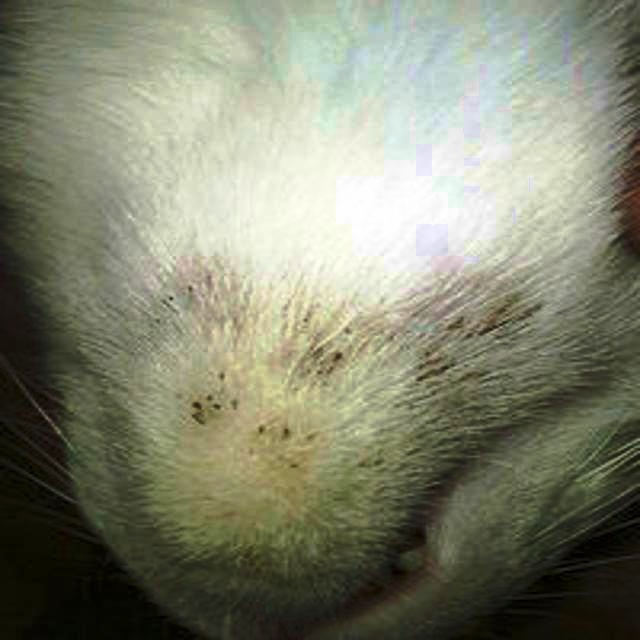acne: (185, 309, 350, 482)
